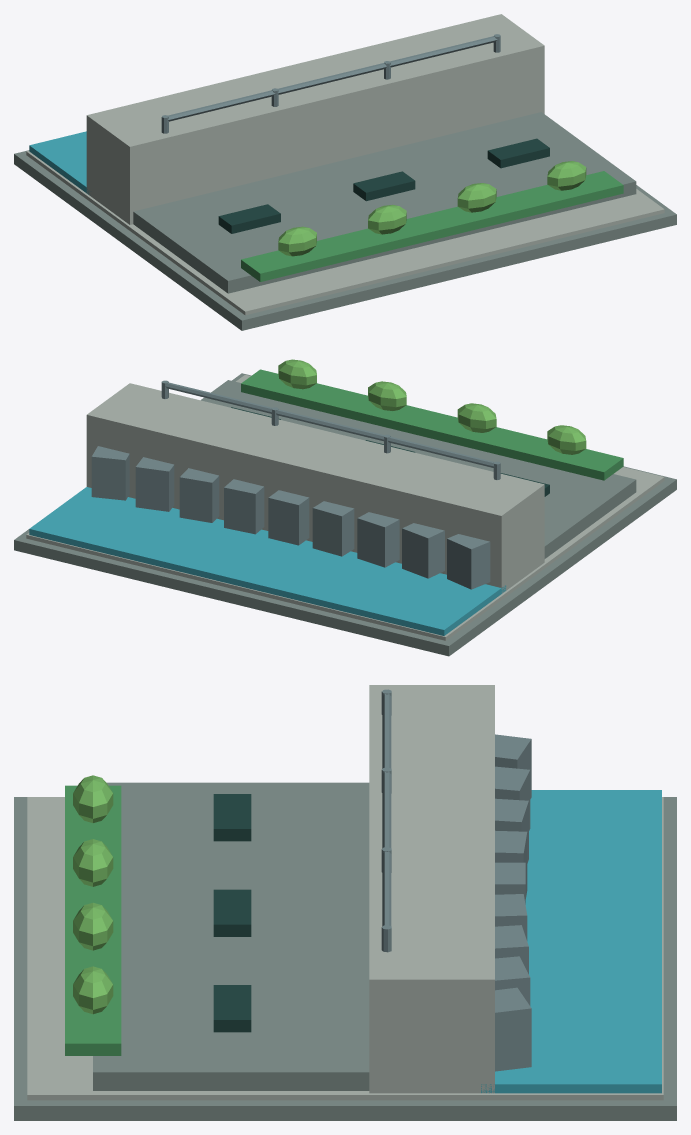
The model's file is seawall_lv3.glb.
3 views of the same model, one above another, from view 1: azimuth 30°, elevation 25°; view 2: azimuth 150°, elevation 25°; view 3: azimuth 270°, elevation 25° (orthographic). The views are drawn at different scales.
Parts seen in each view (by area): view 1: concrete, pavement, green, foliage, dark, steel, water; view 2: concrete, water, steel, pavement, green, foliage; view 3: pavement, concrete, water, steel, green, foliage, dark.
Part boxes in pixels (x1,y1,x2,y2): concrete: (26, 14, 664, 315); pavement: (14, 112, 676, 330); green: (241, 171, 623, 281); foliage: (278, 161, 586, 256); dark: (218, 138, 549, 233); steel: (161, 34, 500, 133); water: (29, 131, 89, 194); concrete: (26, 374, 664, 640); water: (29, 487, 506, 635); steel: (91, 380, 500, 589); pavement: (14, 373, 676, 656); green: (241, 369, 623, 480); foliage: (278, 359, 586, 454); pavement: (14, 782, 676, 1120); concrete: (27, 685, 663, 1100); water: (481, 790, 661, 1093); steel: (381, 689, 531, 1071); green: (65, 785, 121, 1055); foliage: (73, 775, 113, 1014); dark: (213, 794, 251, 1032).
Bounding box in the file's own units: 9.7 × 2.3 × 8.8.
